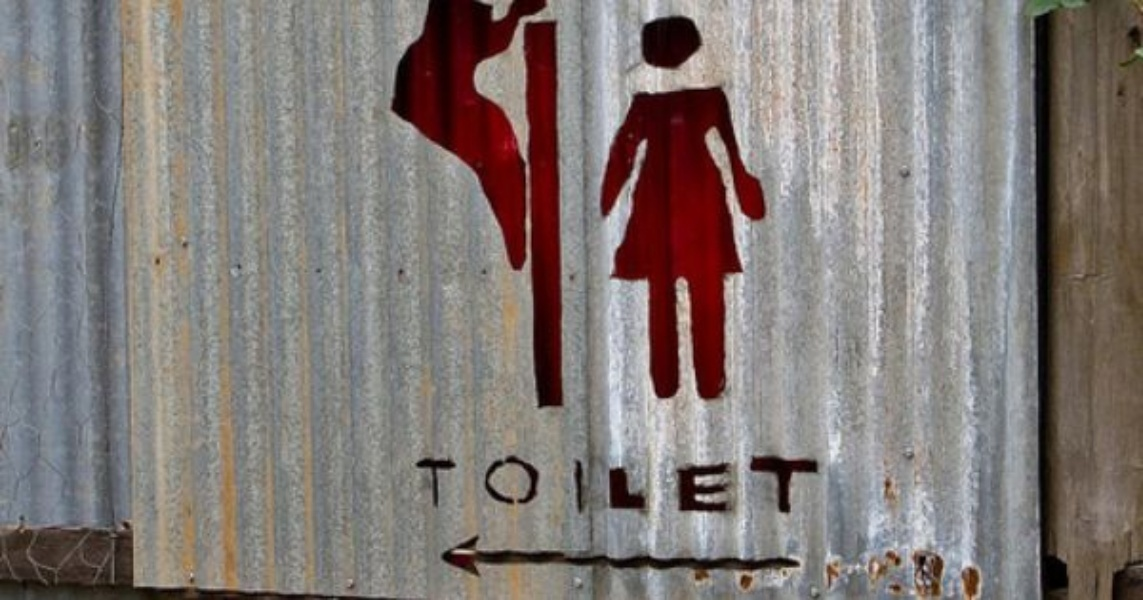text: (417, 454, 432, 515), (433, 454, 448, 515), (449, 454, 464, 515), (465, 454, 480, 515), (481, 454, 496, 515), (497, 454, 512, 515), (513, 454, 528, 515), (529, 454, 544, 515), (545, 454, 560, 515), (561, 454, 576, 515), (577, 454, 592, 515), (593, 454, 608, 515), (609, 454, 624, 515), (625, 454, 640, 515), (641, 454, 656, 515), (657, 454, 672, 515), (673, 454, 688, 515), (689, 454, 704, 515), (705, 454, 720, 515), (721, 454, 736, 515), (737, 454, 752, 515), (753, 454, 768, 515), (769, 454, 784, 515), (785, 454, 800, 515), (801, 454, 816, 515), (410, 454, 416, 515), (817, 454, 823, 515)
